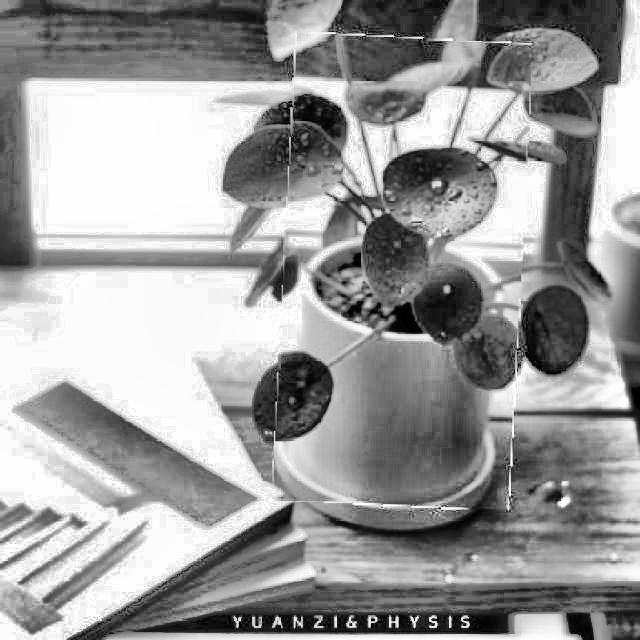plants: (278, 34, 527, 508)
